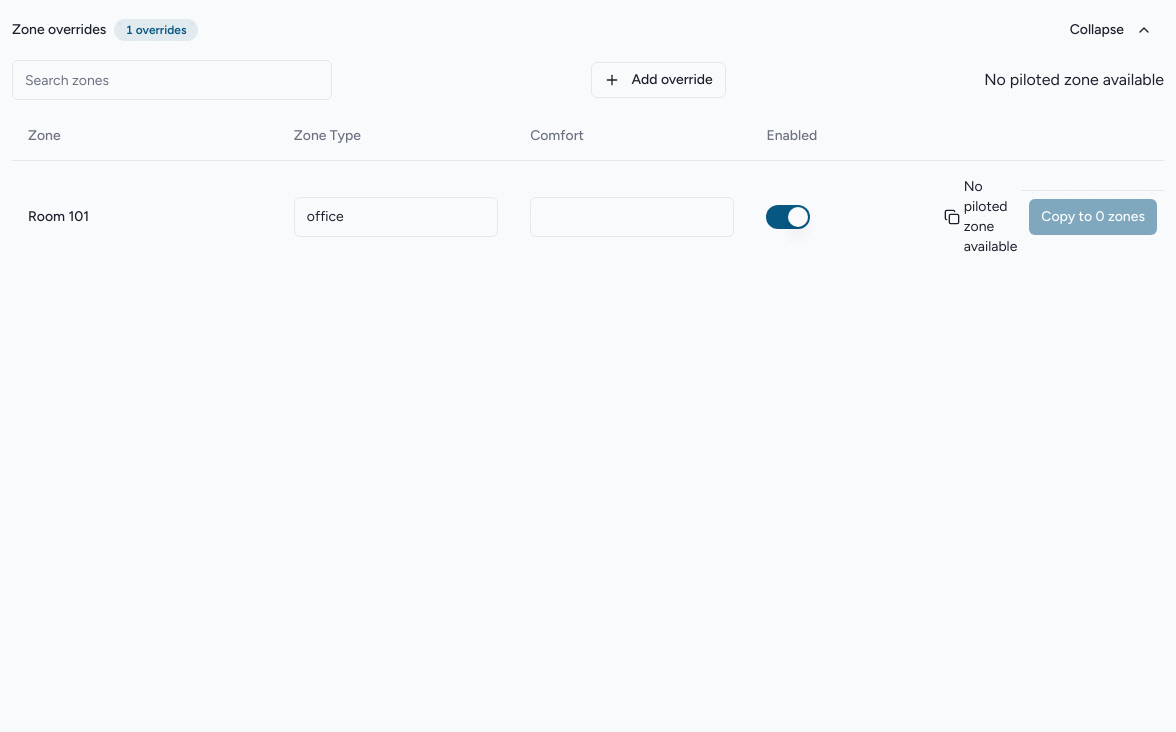
it: ZoneOverridesField › shows a no-results message when the search matches no override
In the field with placeholder "Search zones": (172, 80) [12,60,332,100], type "nope"
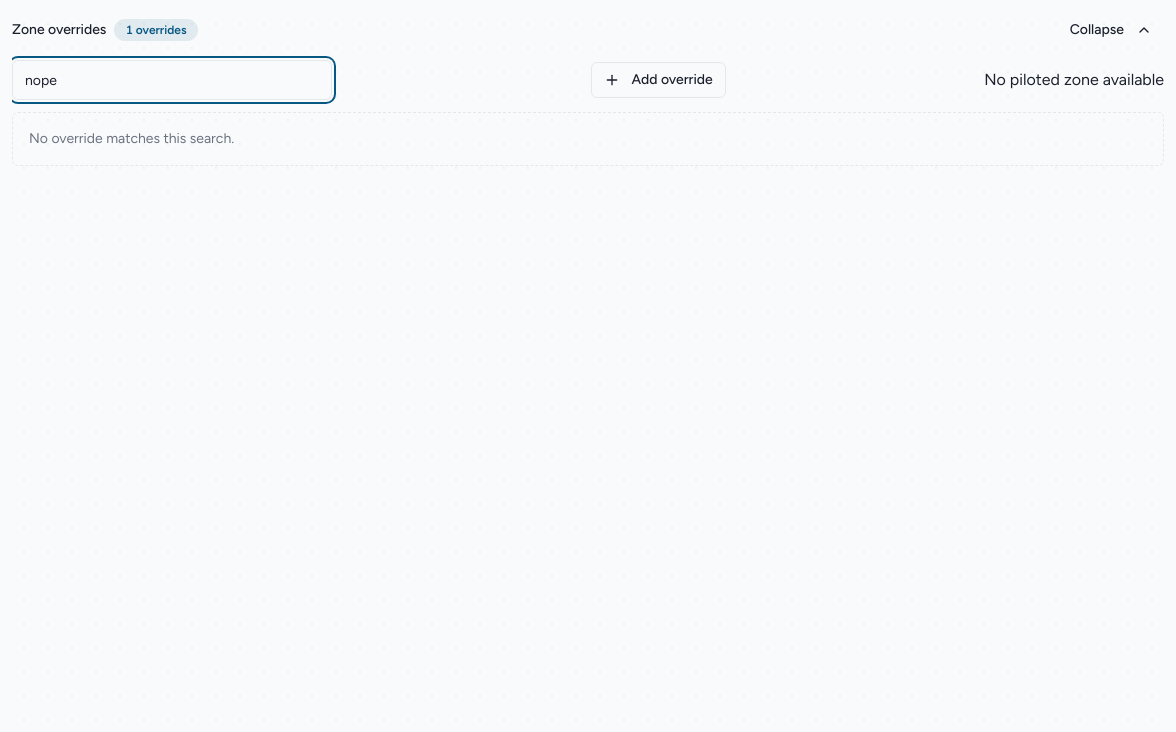
Expected: the table is gone
Expected: the text "No override matches this search." is shown, [12,112,1164,166]
